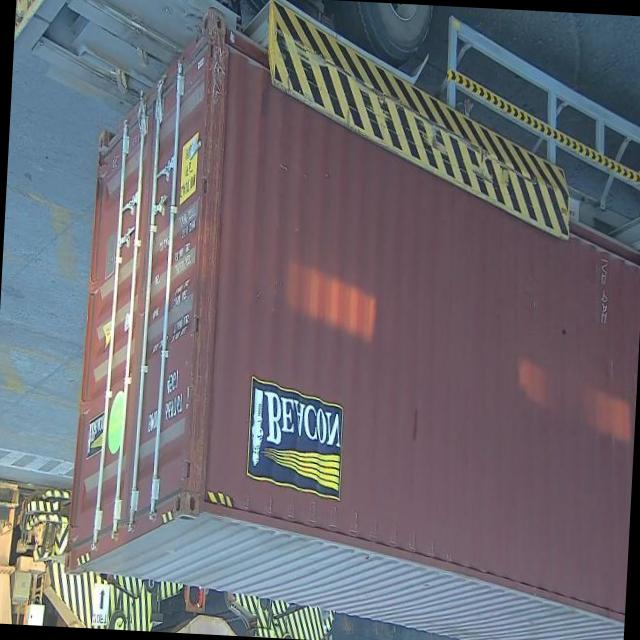Hole: (550, 314, 574, 354)
Rust: (182, 118, 228, 419)
